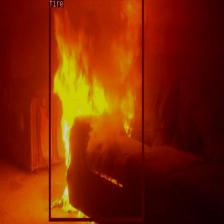fire: (48, 0, 144, 220)
